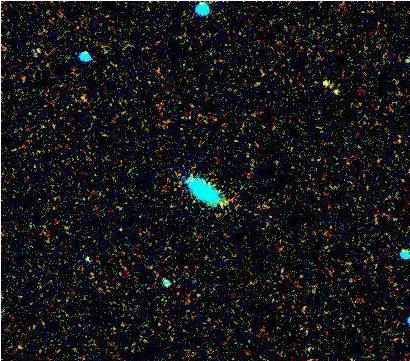star: (311, 66, 341, 96)
